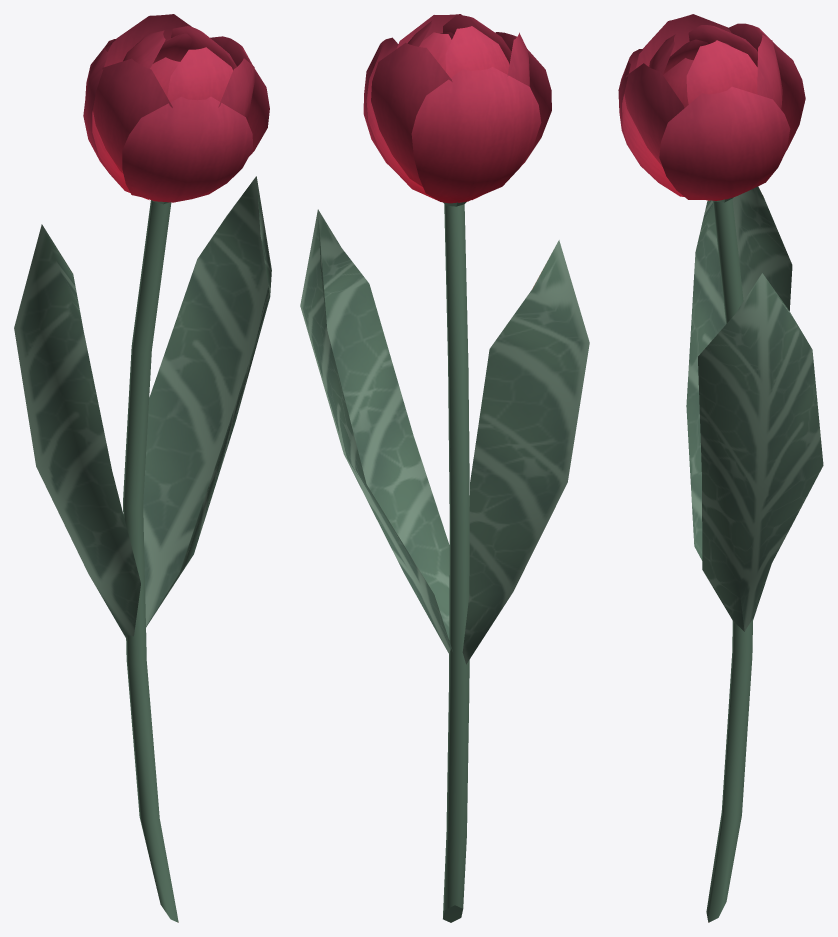
Rendered from flowerTulip.fbx.
3 views of the same model, side by side, from view 1: azimuth 30°, elevation 25°; view 2: azimuth 150°, elevation 25°; view 3: azimuth 270°, elevation 25° (orthographic).
Parts seen in each view (by area): view 1: tulipLeaves, tulipPetals, flowerTulip; view 2: tulipLeaves, tulipPetals, flowerTulip; view 3: tulipLeaves, tulipPetals, flowerTulip.
Boxes of the visible parts, x1,y1,x2,y2 form: tulipLeaves: (14,176,271,639); tulipPetals: (83,14,269,202); flowerTulip: (123,200,178,922); tulipLeaves: (300,209,589,664); tulipPetals: (363,14,551,203); flowerTulip: (443,202,469,922); tulipLeaves: (686,186,823,631); tulipPetals: (618,14,805,200); flowerTulip: (706,197,752,922).
Size of the model in its own units: 16.45 by 51.46 by 10.73.
2 materials, 2 textured.
